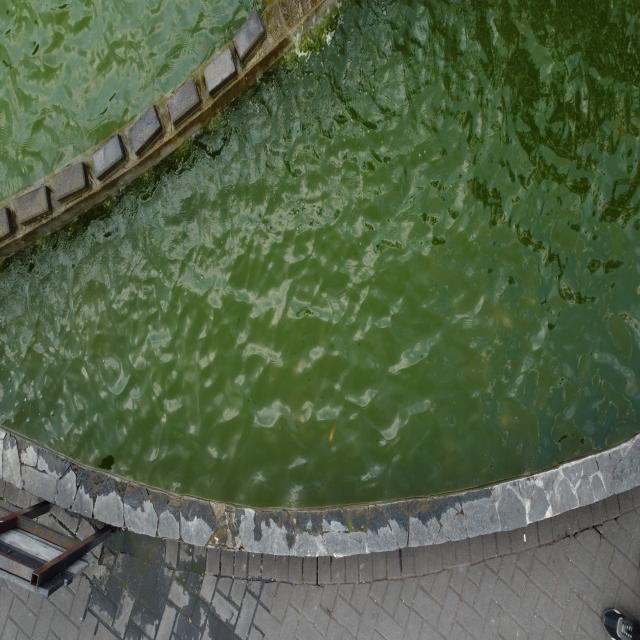Ponds: (1, 1, 640, 557), (1, 1, 332, 254)
